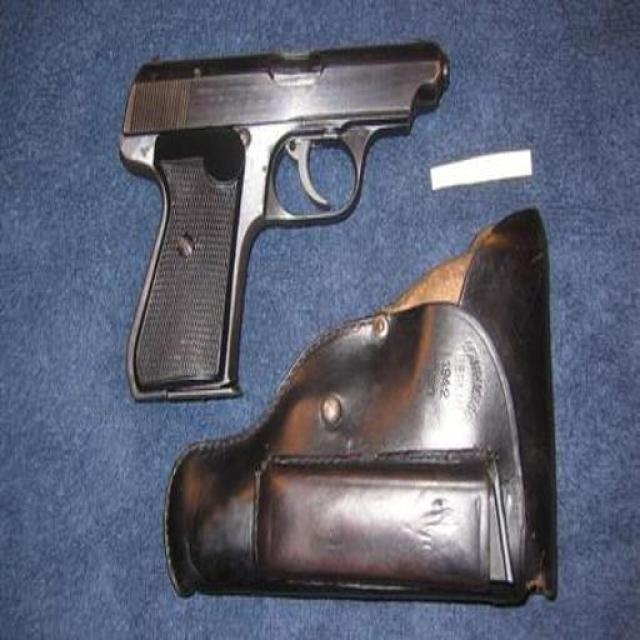pistol: (116, 36, 450, 405)
